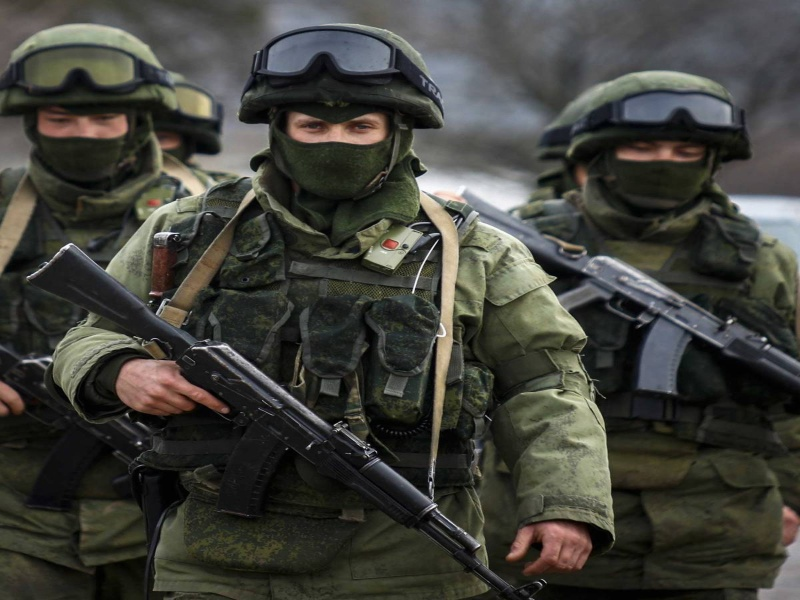person: (47, 24, 614, 600), (508, 70, 800, 600), (3, 23, 214, 600)
weapon: (25, 243, 547, 599), (455, 185, 800, 396), (1, 343, 154, 472)
